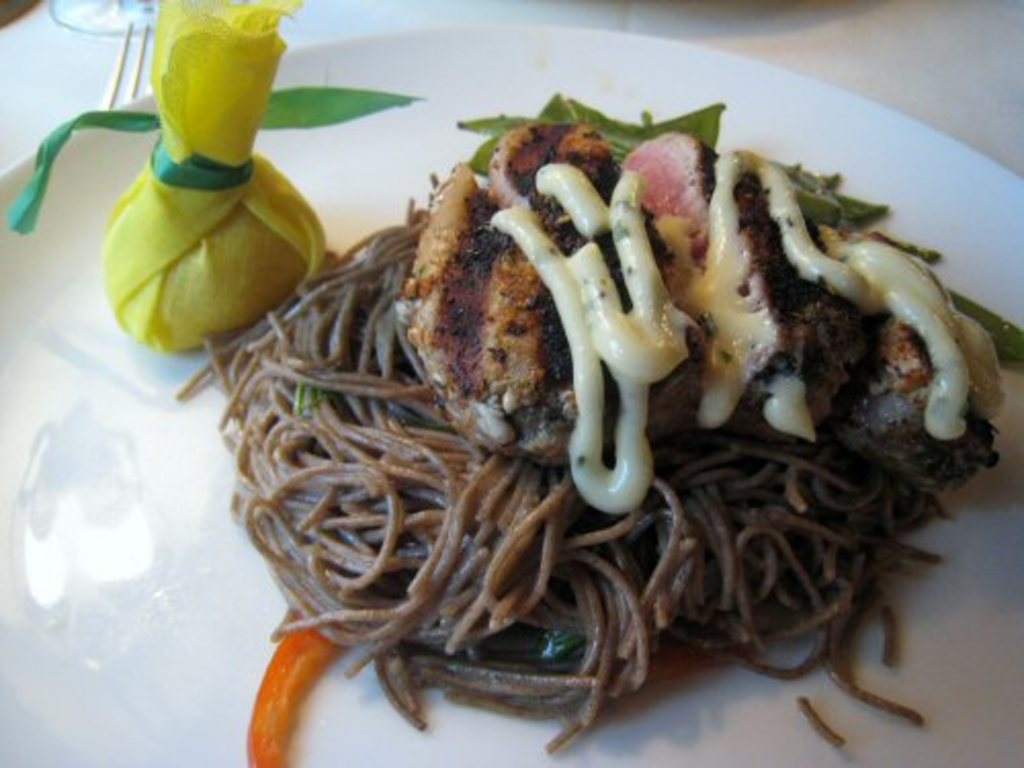pasta: (176, 154, 1006, 750)
